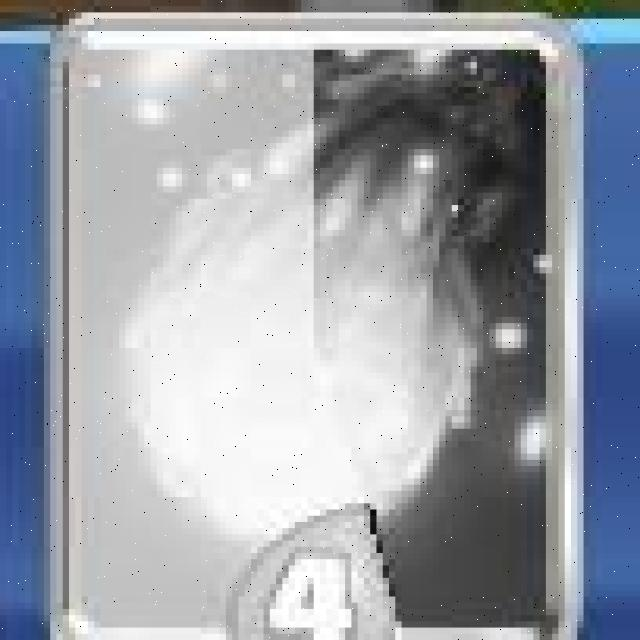Fireball: (55, 16, 586, 640)
